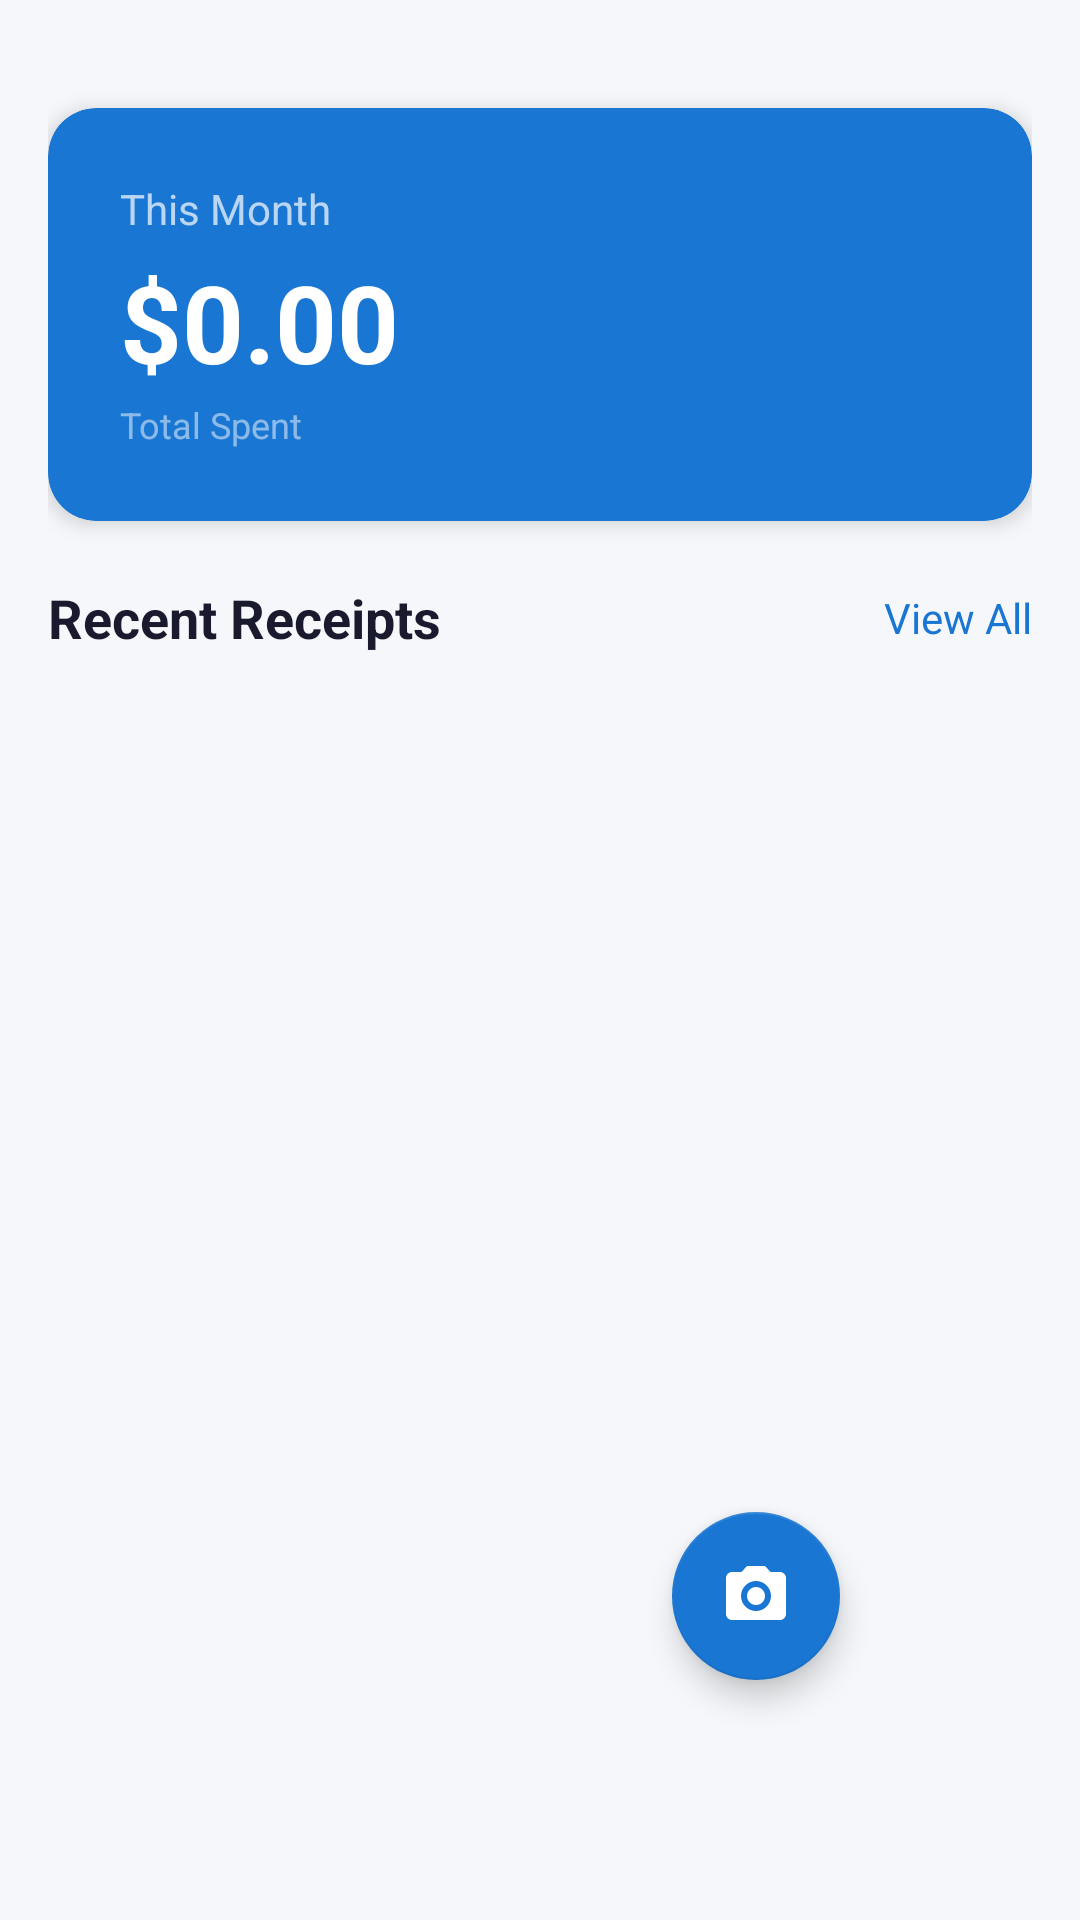

Icons on this 1080w x 1920h Android screen, each with its box as (x1, y1, x2, y2):
Scan Receipt: (672, 1512, 840, 1680)
